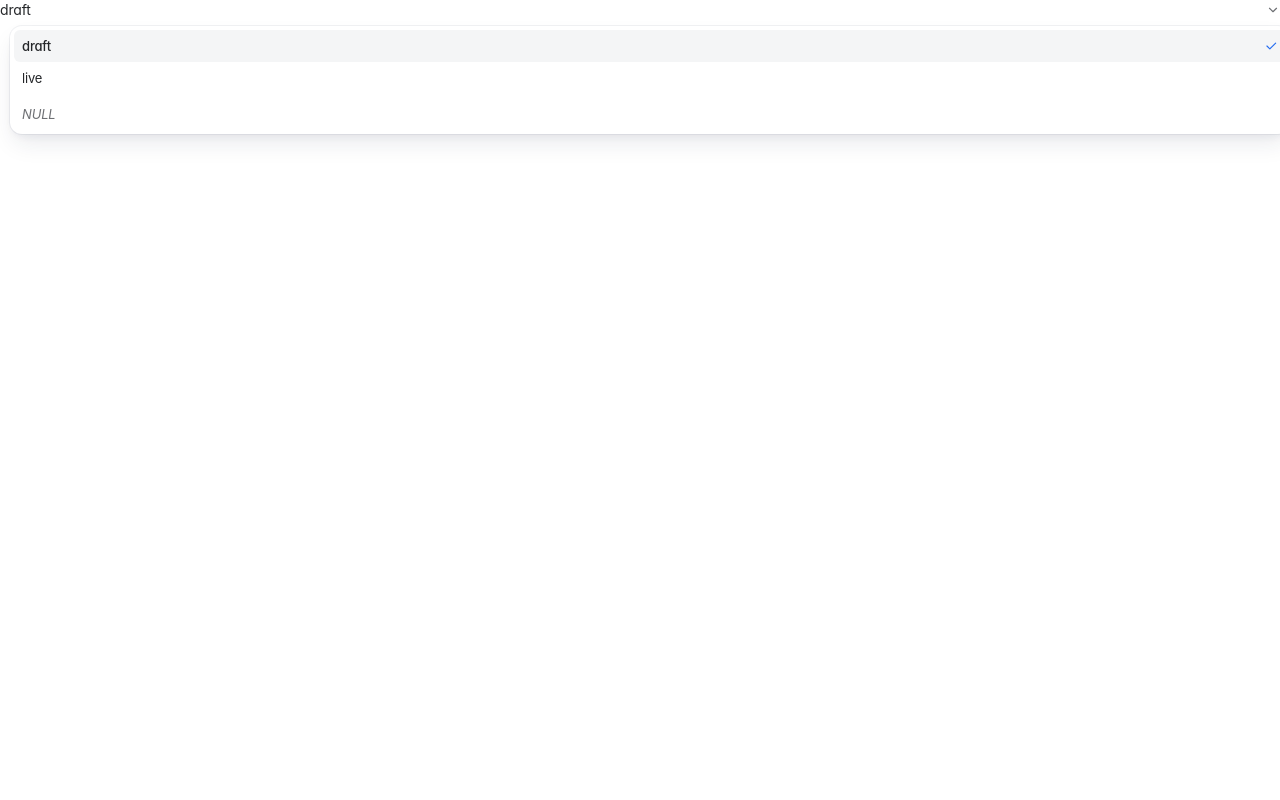
Test: a rejected write › is reported on an enum cell, which used to fail in silence
Click the option "live": [32, 78] box x1=22 y1=70 x2=42 y2=86
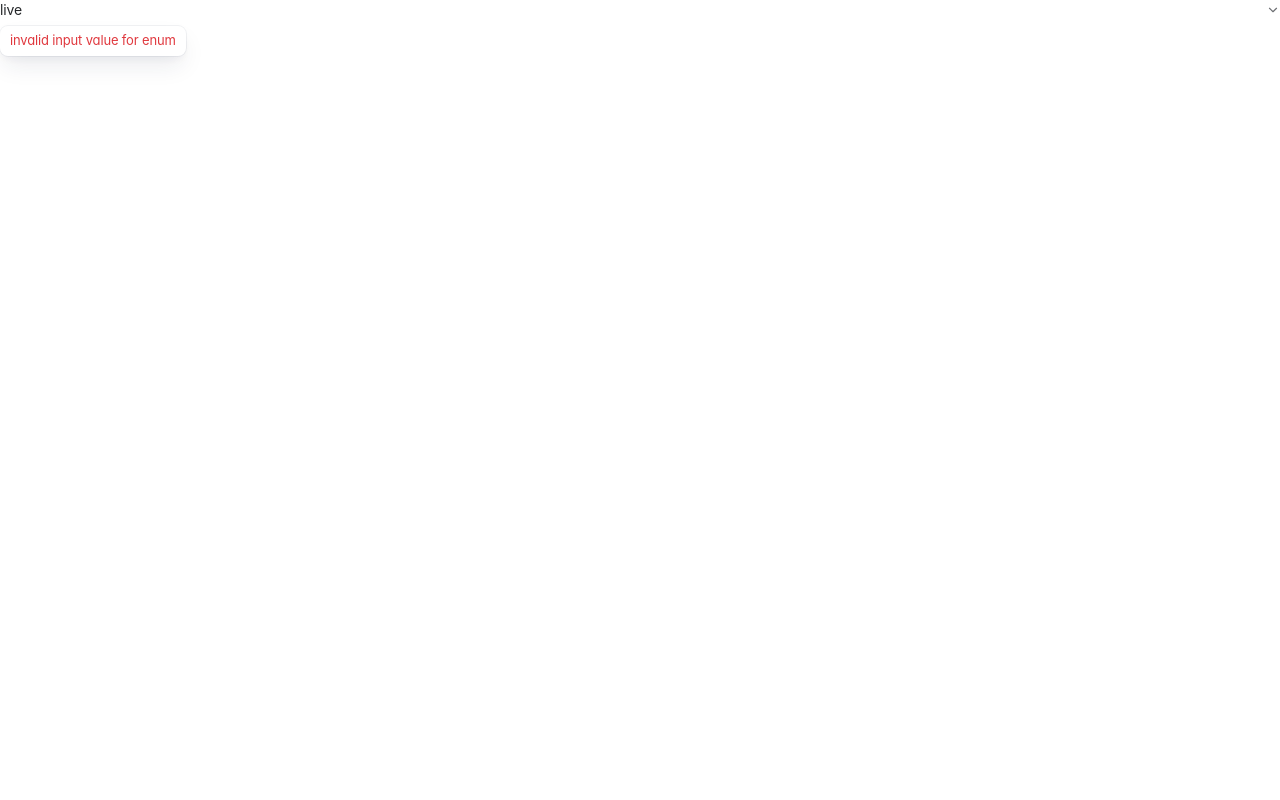
Result: the text "invalid input value for enum" is shown at x1=0 y1=26 x2=186 y2=56
